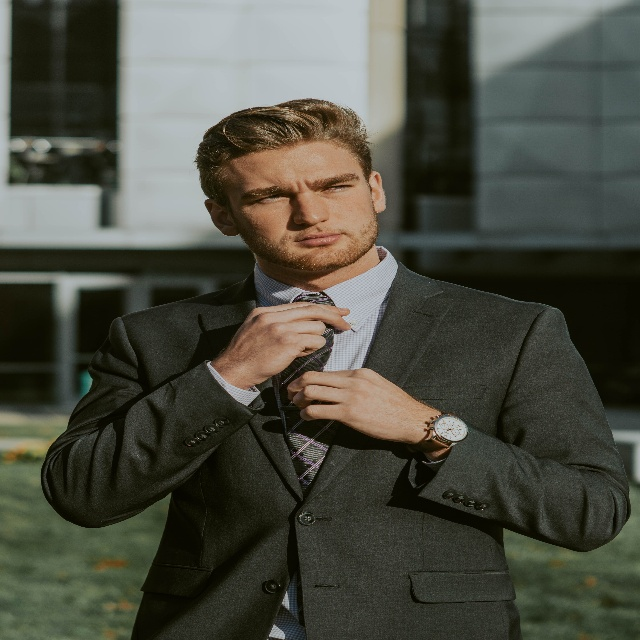Sin_guantes: (225, 302, 351, 390), (286, 366, 420, 444)
